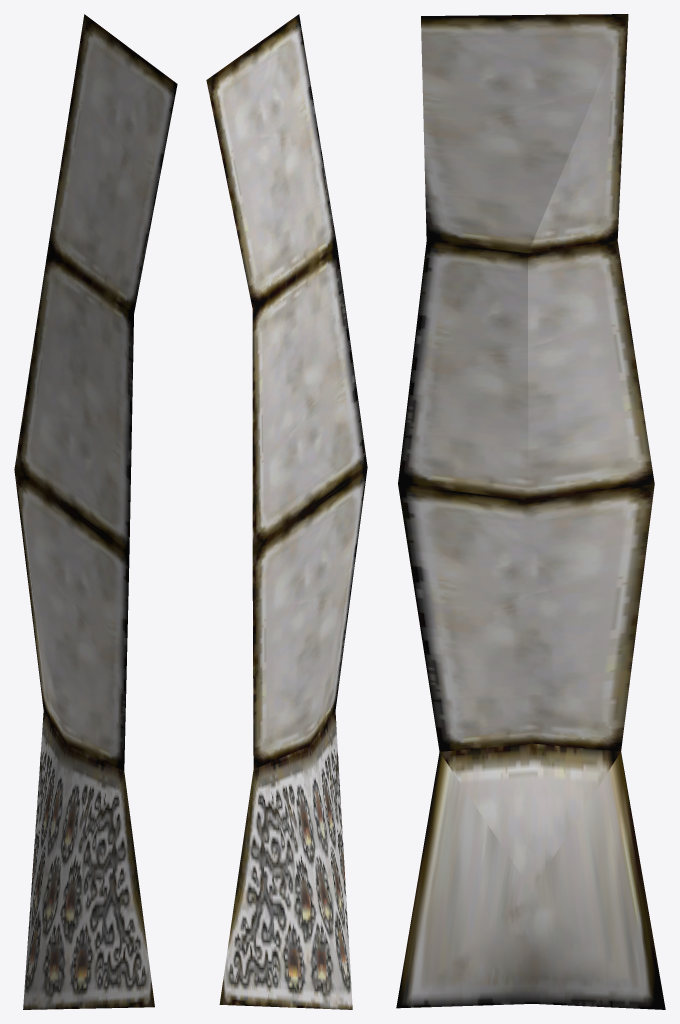
File: earring_s01_l1.fbx
3 views of the same model, side by side, from view 1: azimuth 30°, elevation 25°; view 2: azimuth 150°, elevation 25°; view 3: azimuth 270°, elevation 25° (orthographic). The views are drawn at different scales.
Parts seen in each view (by area): view 1: mesh_node; view 2: mesh_node; view 3: mesh_node.
Boxes of the visible parts, x1=… form: mesh_node: x1=14, y1=14, x2=177, y2=1009; mesh_node: x1=206, y1=14, x2=367, y2=1009; mesh_node: x1=396, y1=14, x2=665, y2=1009.
Bounding box in the file's own units: 0.0198 × 0.1706 × 0.0398.
Materials: 1 (1 with a texture image).
